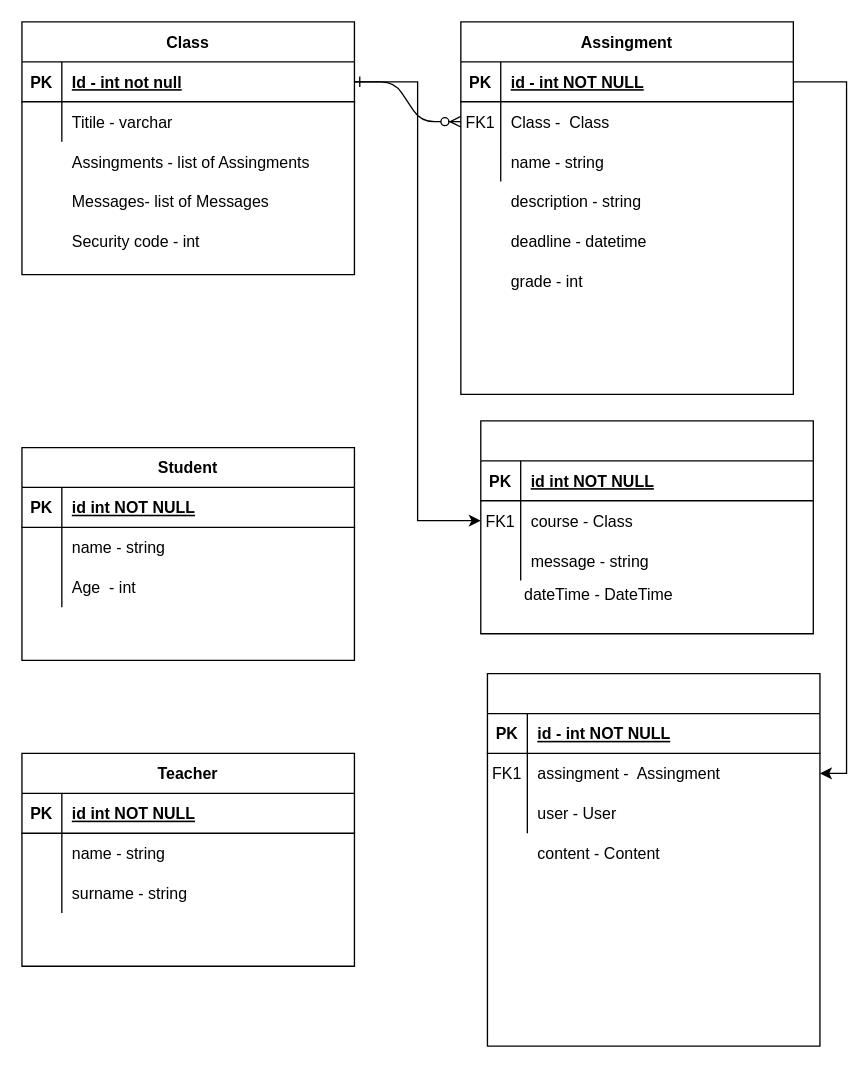
Some shapes in this 868 by 1068 pixel diagram are drawn without their labels. Each missing label, with the box of its shape:
Assingment Submit: (486, 672, 820, 1046)
Stream: (479, 420, 813, 634)
